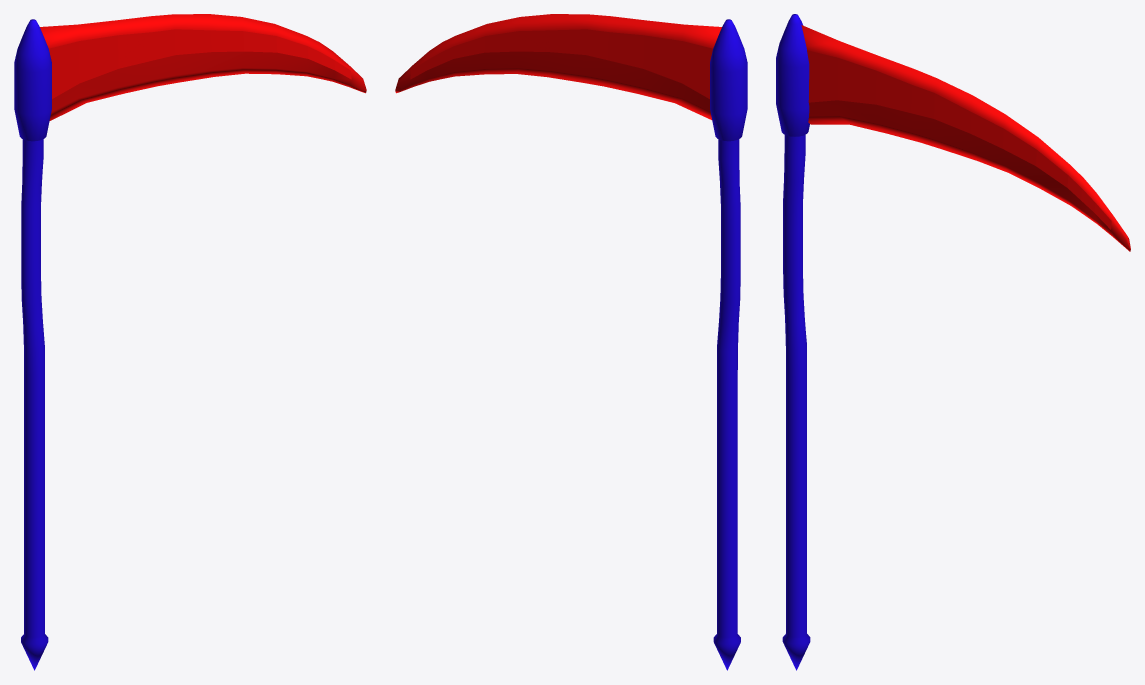
Rendered from Scythe-2.FBX.
3 renders of one model, left to right at view 1: azimuth 30°, elevation 25°; view 2: azimuth 150°, elevation 25°; view 3: azimuth 330°, elevation 25°, orthographic.
Visible parts, largest first — view 1: Scythe_Blade, Scythe_Handle; view 2: Scythe_Blade, Scythe_Handle; view 3: Scythe_Blade, Scythe_Handle.
Part boxes in pixels (box(x1,y1,x2,y2)): Scythe_Blade: box(40, 14, 366, 120); Scythe_Handle: box(14, 19, 51, 670); Scythe_Blade: box(395, 14, 721, 119); Scythe_Handle: box(710, 19, 747, 670); Scythe_Blade: box(801, 25, 1130, 251); Scythe_Handle: box(776, 14, 810, 670).
Size of the model in its own units: 35.02 by 62.16 by 3.28.
